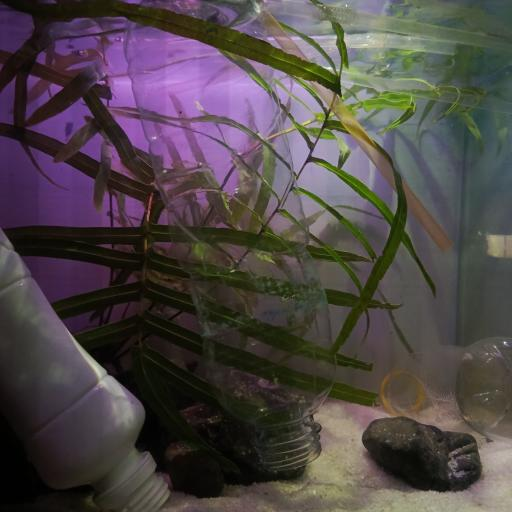plastic_bottle: (124, 1, 332, 468), (0, 226, 169, 512), (377, 342, 512, 438)
plastic_straw: (259, 13, 453, 255), (296, 49, 507, 118)
